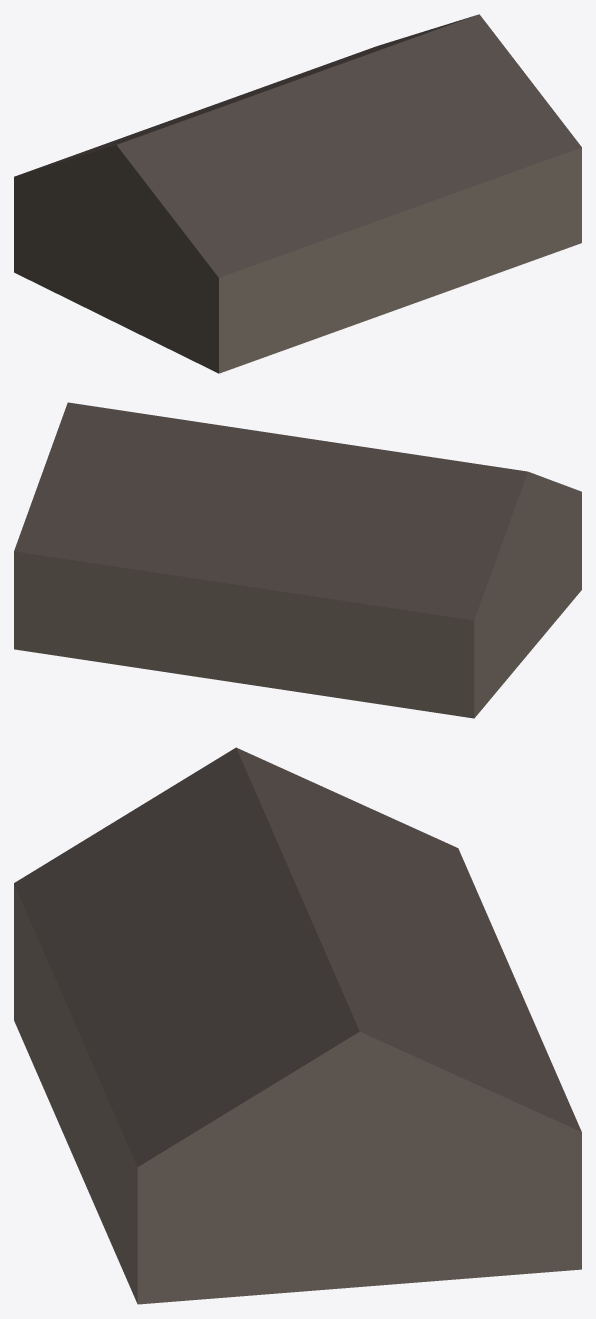
3 renders of one model, top to bottom at view 1: azimuth 30°, elevation 25°; view 2: azimuth 150°, elevation 25°; view 3: azimuth 270°, elevation 25°, orthographic. The views are drawn at different scales.
Parts seen in each view (by area): view 1: HP-w858807458; view 2: HP-w858807458; view 3: HP-w858807458.
Part boxes in pixels (left/top/right/bottom): HP-w858807458: left=14, top=14, right=581, bottom=373; HP-w858807458: left=14, top=402, right=581, bottom=718; HP-w858807458: left=14, top=747, right=581, bottom=1304.
Size of the model in its own units: 14.96 by 5.58 by 11.25.
